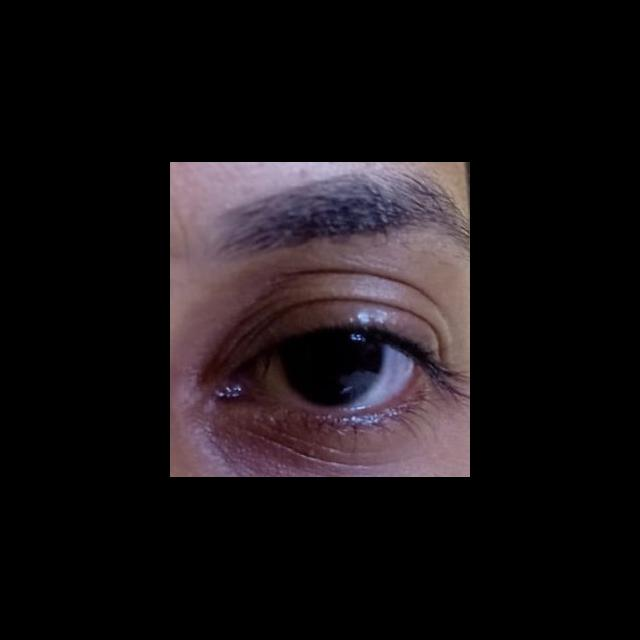eye: (251, 336, 415, 411)
iris: (282, 337, 382, 408)
